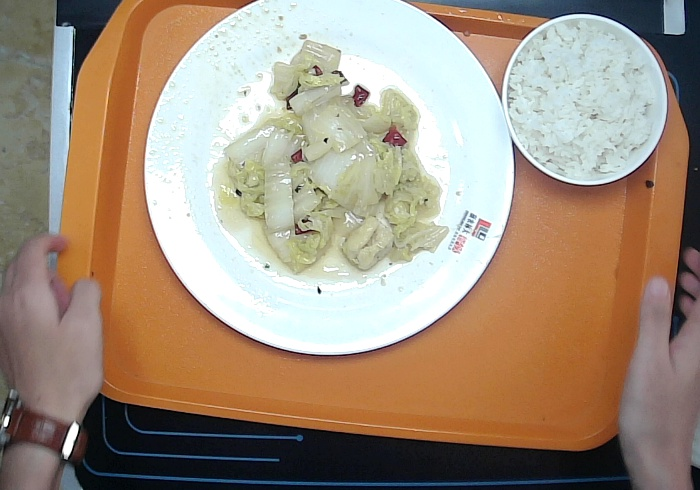ZNLD-Da_Yuan_Pan: (142, 1, 516, 354)
ZNLD-Fan_Wan: (500, 13, 671, 187)
